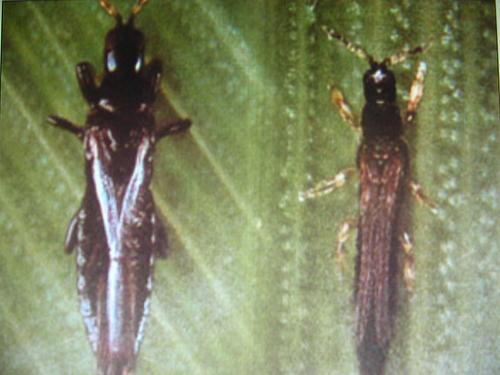Phlaeothripidae: (45, 3, 193, 375), (303, 24, 446, 375)
